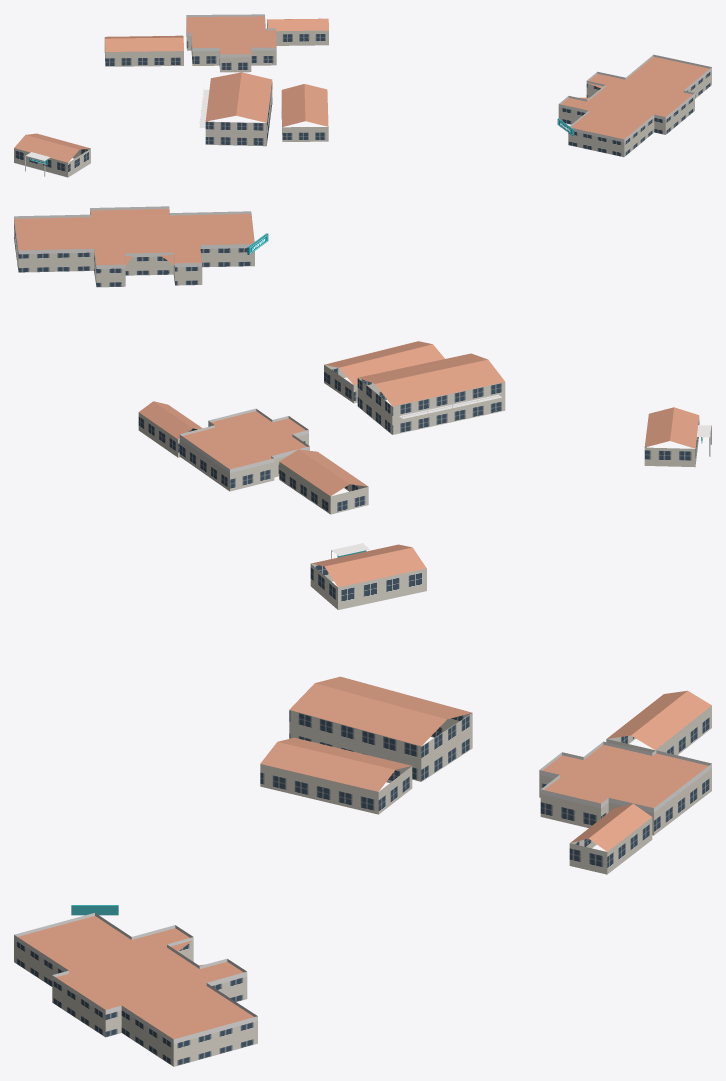
Rendered from tamarijn.glb.
The picture shows the model from 3 angles, top to bottom: view 1: azimuth 30°, elevation 25°; view 2: azimuth 150°, elevation 25°; view 3: azimuth 270°, elevation 25°; orthographic projection. The views are drawn at different scales.
Visible parts, largest first — view 1: tamarijn_lod0; view 2: tamarijn_lod0; view 3: tamarijn_lod0.
Boxes of the visible parts, x1,y1,x2,y2 form: tamarijn_lod0: [14, 14, 711, 177]; tamarijn_lod0: [14, 206, 711, 514]; tamarijn_lod0: [14, 543, 711, 1066].
Size of what is drawn, in the model's own units: 145 by 9.23 by 91.3.
Materials: 5 (2 with a texture image).
